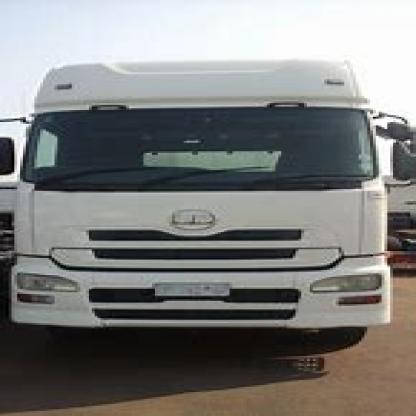dump_truck: (9, 48, 402, 353)
